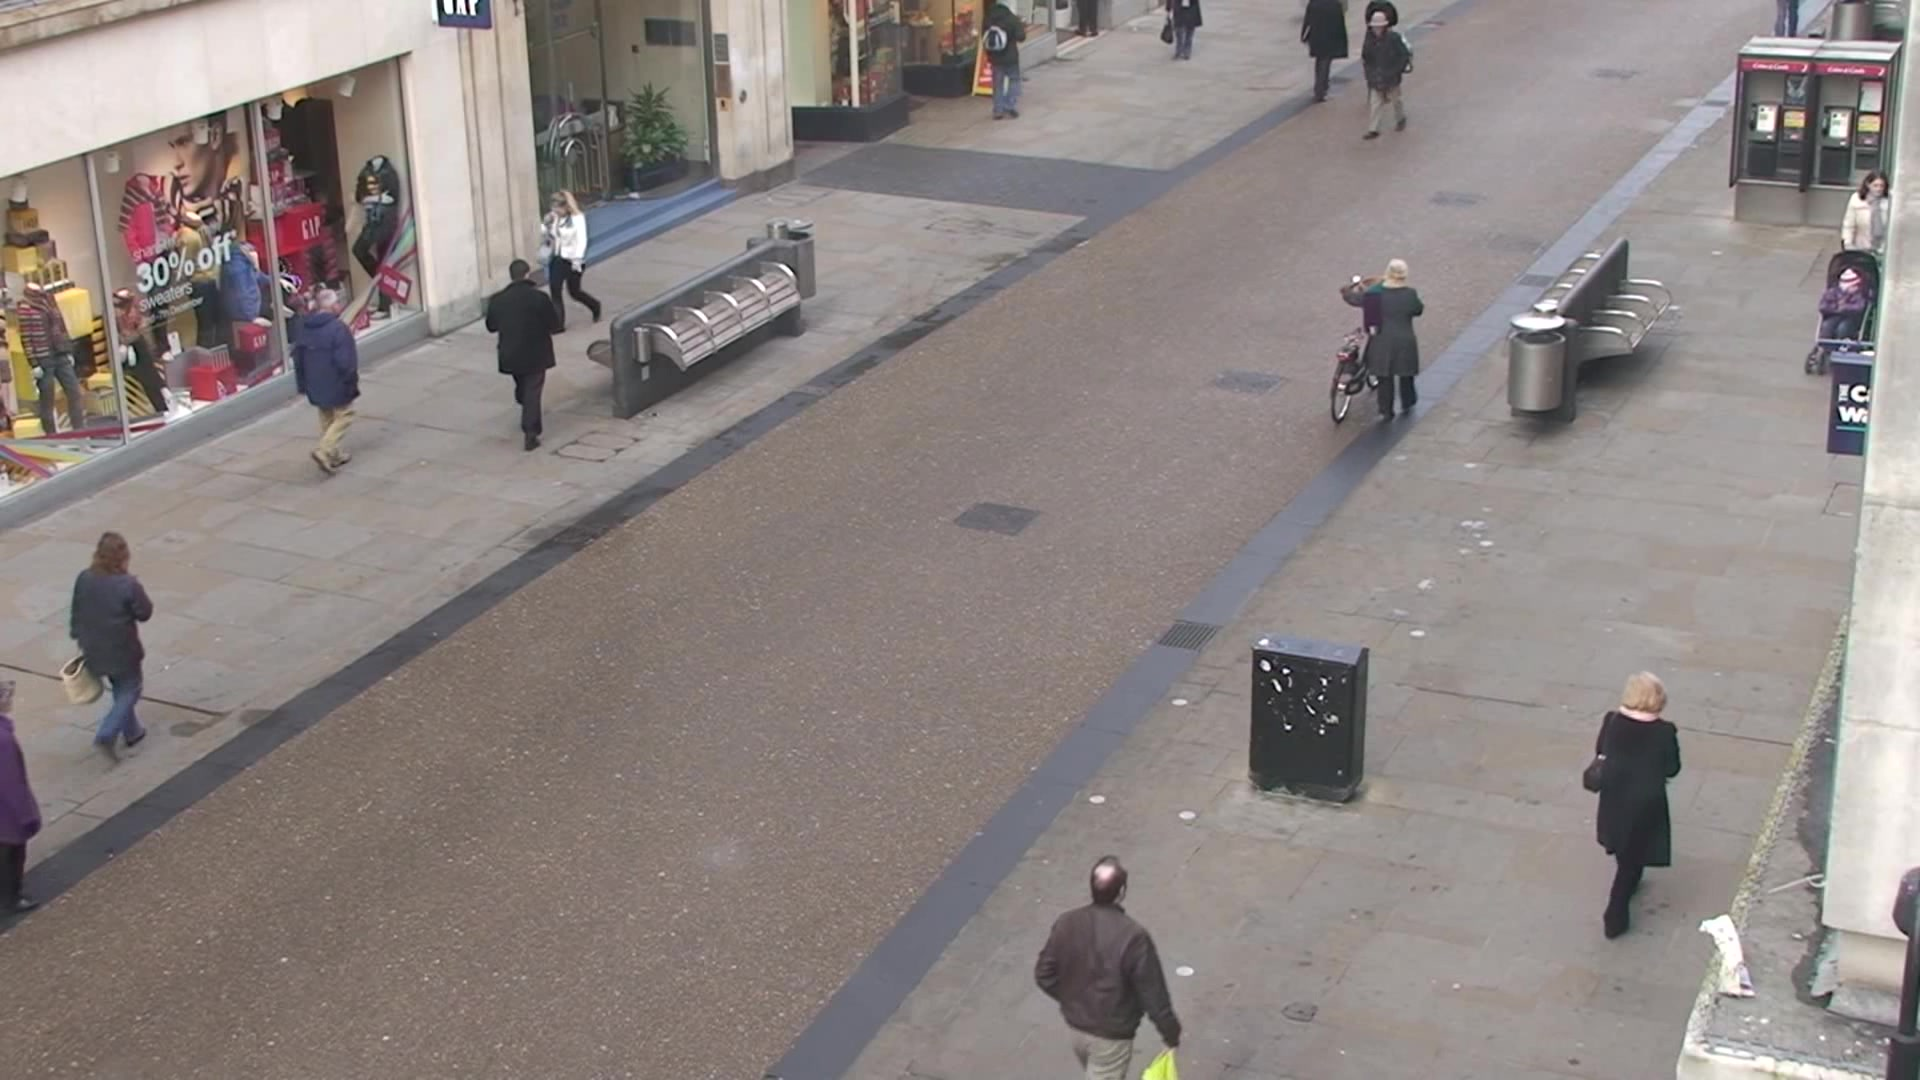person: (1586, 669, 1682, 943), (71, 534, 155, 763), (1338, 258, 1424, 421), (489, 260, 556, 453), (295, 286, 363, 475), (537, 188, 605, 335), (1360, 11, 1415, 140)
